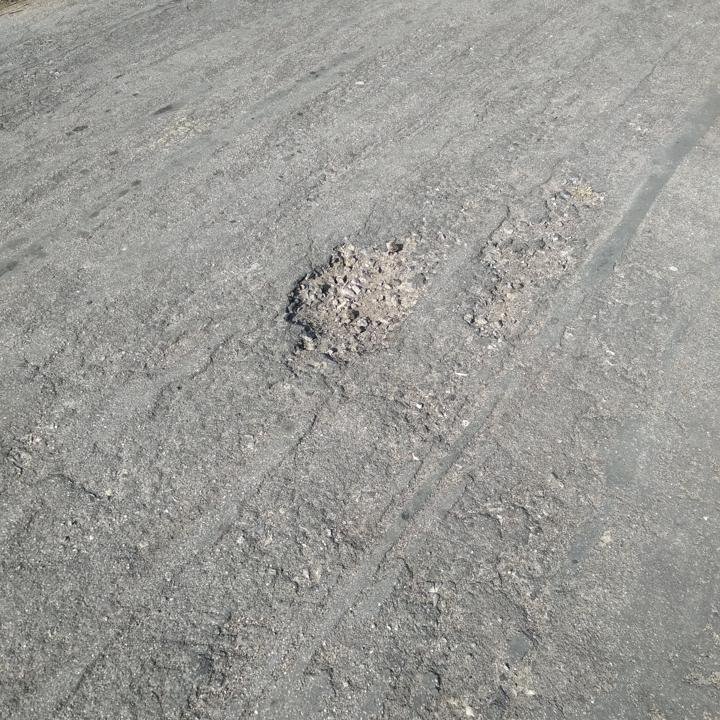pothole: (461, 179, 611, 345), (279, 232, 432, 366)
